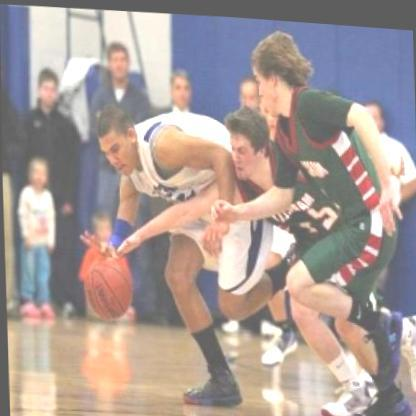basketball: (78, 249, 139, 326)
